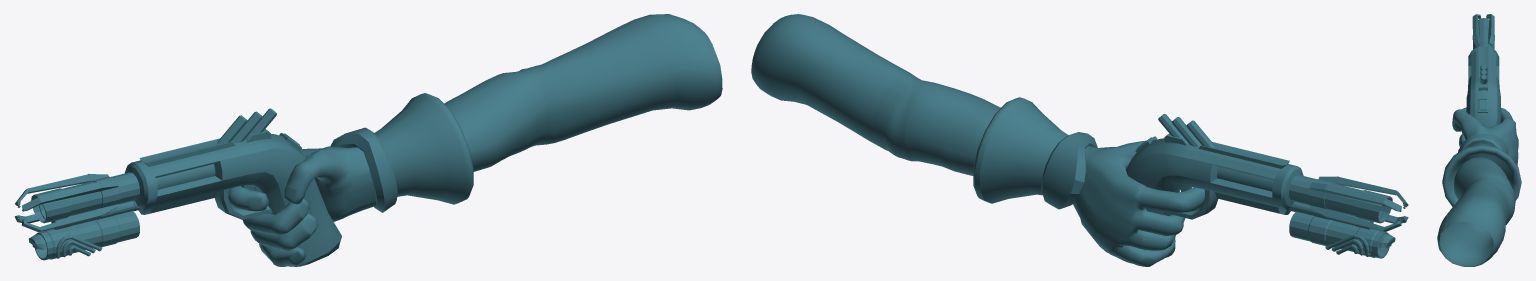
The model's file is Gun-and-hand-mesh-2.fbx.
3 views of the same model, side by side, from view 1: azimuth 30°, elevation 25°; view 2: azimuth 150°, elevation 25°; view 3: azimuth 270°, elevation 25° (orthographic). The views are drawn at different scales.
Parts seen in each view (by area): view 1: hand3, Gun_Body, Barrels, Vials, Add_Ons, zapper_2, zapper_1, Trigger, zapper_3, pipes; view 2: hand3, Gun_Body, Barrels, Vials, Add_Ons, zapper_3, zapper_4, zapper_2, pipes, Trigger; view 3: hand3, Gun_Body, Add_Ons, Barrels, zapper_2, zapper_3, Vials, Button.
Boxes of the visible parts, bbox=[...] form: hand3: bbox=[228, 14, 722, 266]; Gun_Body: bbox=[125, 134, 341, 266]; Barrels: bbox=[28, 172, 139, 260]; Vials: bbox=[155, 108, 276, 189]; Add_Ons: bbox=[139, 129, 301, 166]; zapper_2: bbox=[22, 180, 118, 211]; zapper_1: bbox=[21, 204, 118, 232]; Trigger: bbox=[214, 185, 272, 219]; zapper_3: bbox=[15, 174, 108, 207]; pipes: bbox=[54, 235, 102, 258]; hand3: bbox=[751, 14, 1204, 266]; Gun_Body: bbox=[1098, 138, 1303, 263]; Barrels: bbox=[1289, 174, 1395, 258]; Vials: bbox=[1158, 114, 1273, 191]; Add_Ons: bbox=[1135, 133, 1289, 168]; zapper_3: bbox=[1309, 182, 1401, 211]; zapper_4: bbox=[1309, 205, 1401, 231]; zapper_2: bbox=[1318, 176, 1408, 208]; pipes: bbox=[1325, 234, 1370, 256]; Trigger: bbox=[1164, 187, 1218, 219]; hand3: bbox=[1437, 107, 1521, 266]; Gun_Body: bbox=[1466, 45, 1501, 158]; Add_Ons: bbox=[1477, 46, 1488, 112]; Barrels: bbox=[1474, 18, 1493, 48]; zapper_2: bbox=[1472, 14, 1481, 45]; zapper_3: bbox=[1486, 14, 1494, 45]; Vials: bbox=[1480, 64, 1487, 84]; Button: bbox=[1479, 99, 1487, 110].
Bounding box in the file's own units: 5.89 × 1.32 × 0.948.
